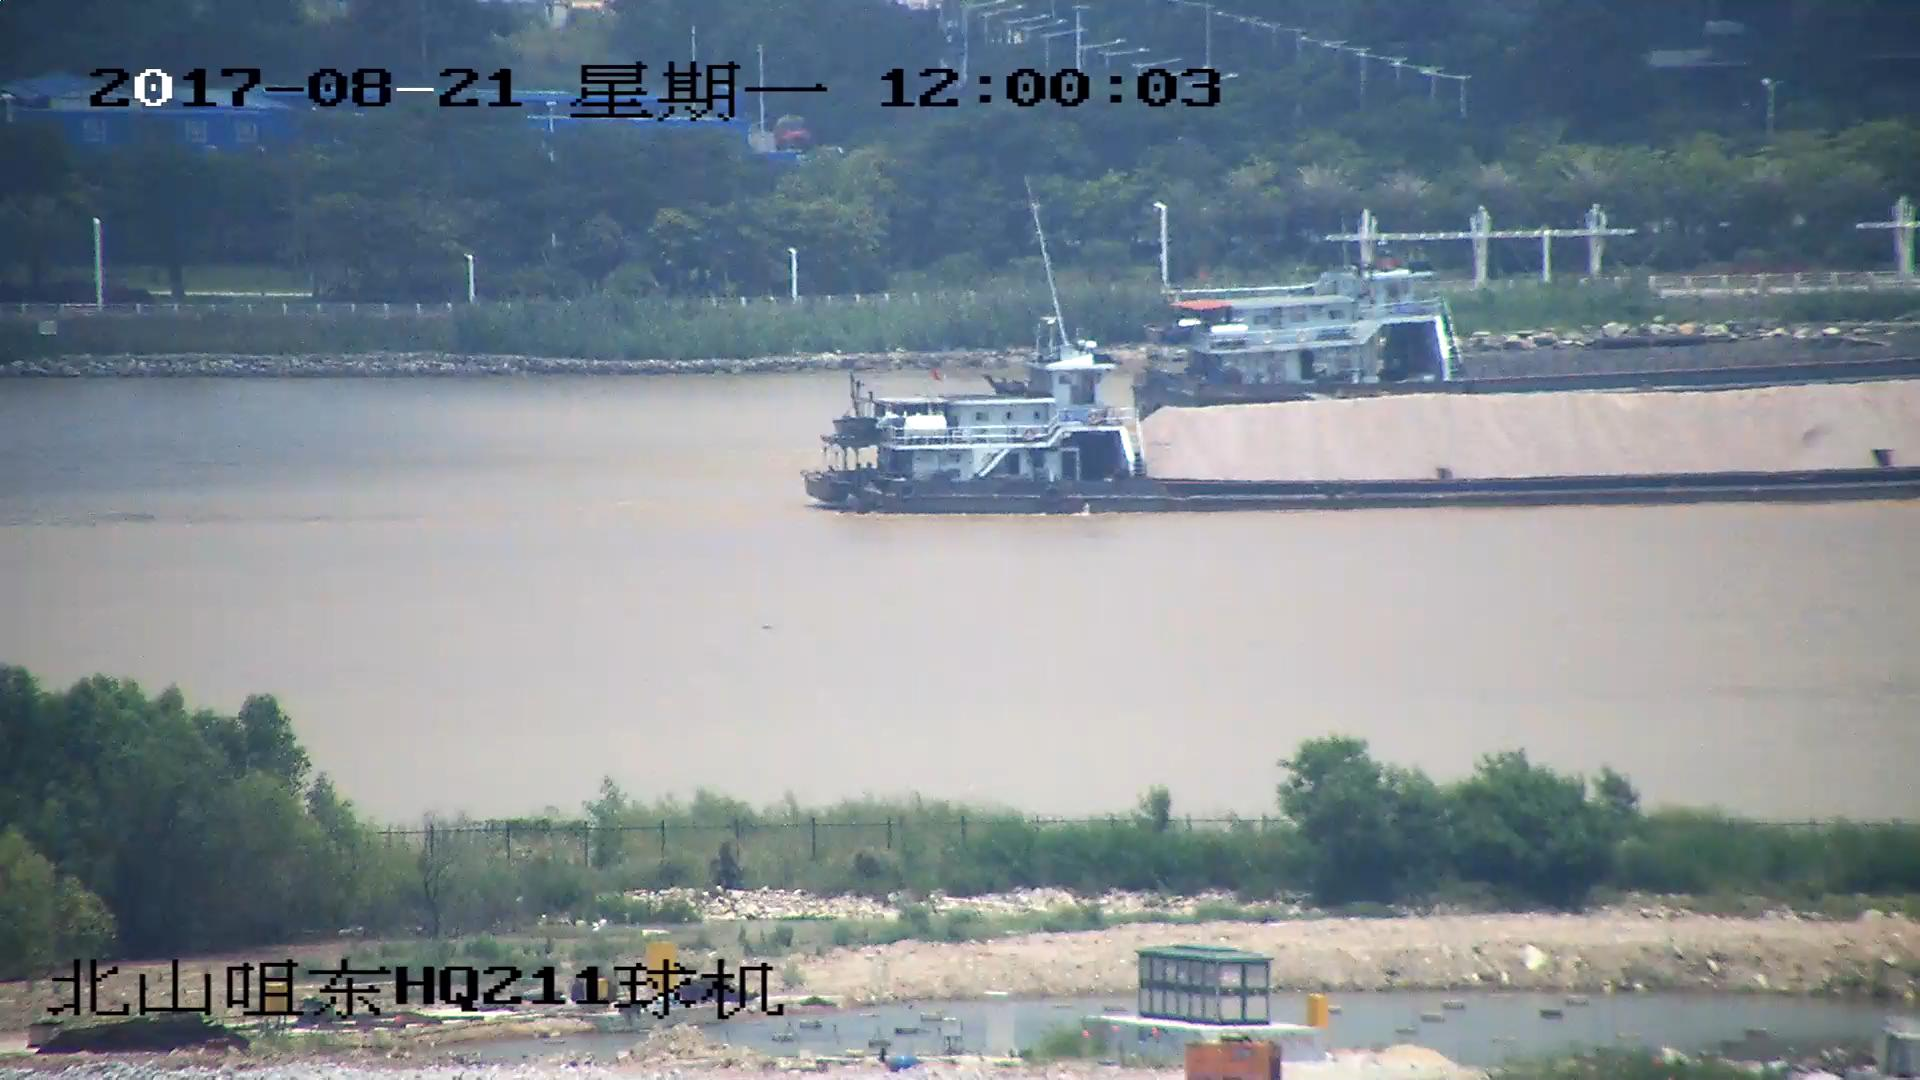bulk cargo carrier: (1127, 282, 1920, 405)
ore carrier: (810, 389, 1920, 508)
